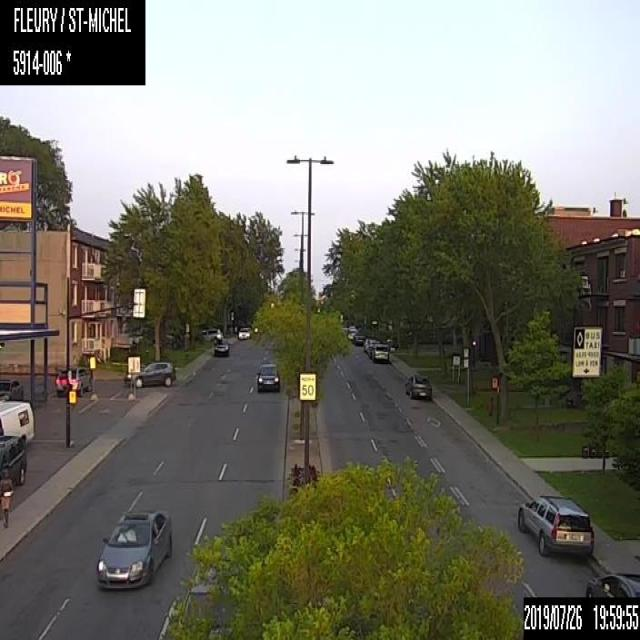pedestrian: (0, 468, 14, 525)
vehicle: (94, 505, 172, 591), (516, 491, 594, 560), (584, 569, 639, 596), (122, 358, 174, 386), (54, 363, 92, 394), (16, 397, 35, 446), (404, 372, 432, 400), (255, 360, 279, 392), (15, 436, 28, 492), (209, 336, 229, 356), (201, 327, 222, 342), (373, 347, 389, 364), (236, 325, 250, 340), (362, 337, 374, 352), (368, 341, 380, 356), (346, 326, 358, 339), (353, 332, 364, 346)
